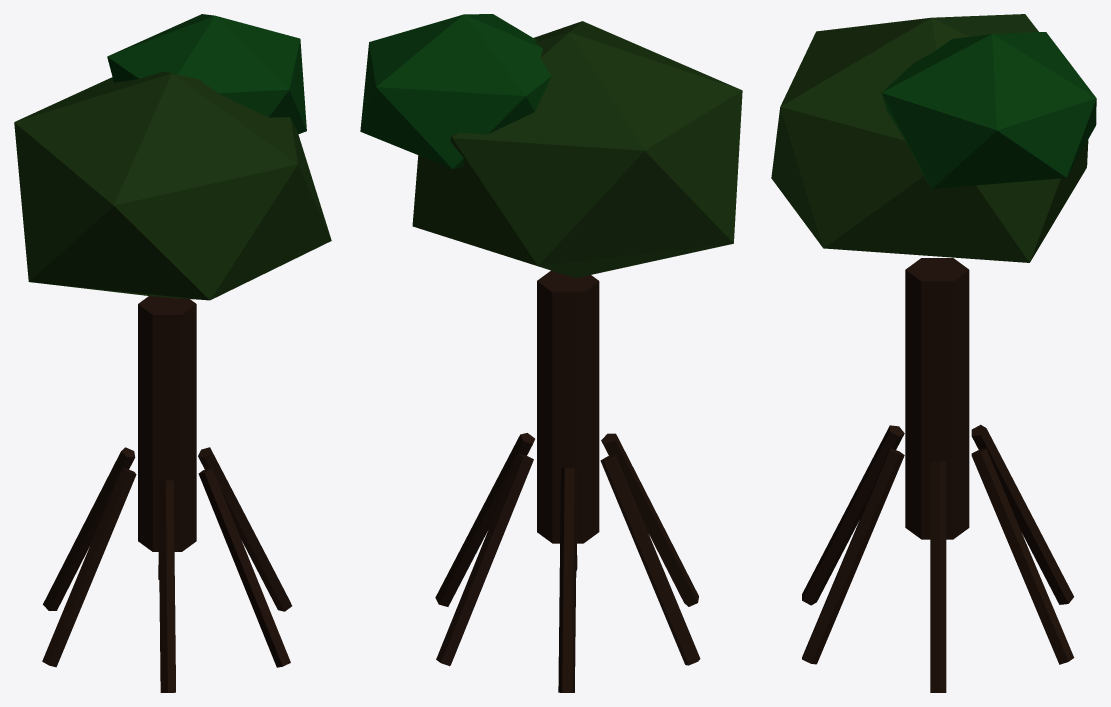
Rendered from mangrove.obj.
The picture shows the model from 3 angles, left to right: view 1: azimuth 30°, elevation 25°; view 2: azimuth 150°, elevation 25°; view 3: azimuth 270°, elevation 25°; orthographic projection. The views are drawn at different scales.
Parts seen in each view (by area): view 1: mangrove; view 2: mangrove; view 3: mangrove.
Part boxes in pixels (box(x1,y1,x2,y2)): mangrove: box(14, 14, 331, 692); mangrove: box(360, 14, 742, 692); mangrove: box(771, 14, 1096, 692).
Size of the model in its own units: 2.18 by 3.96 by 1.83.
